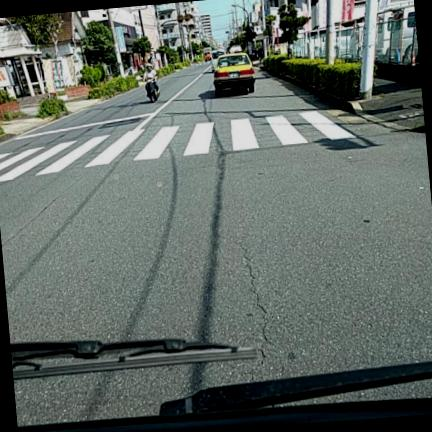Road: (0, 66, 431, 424)
